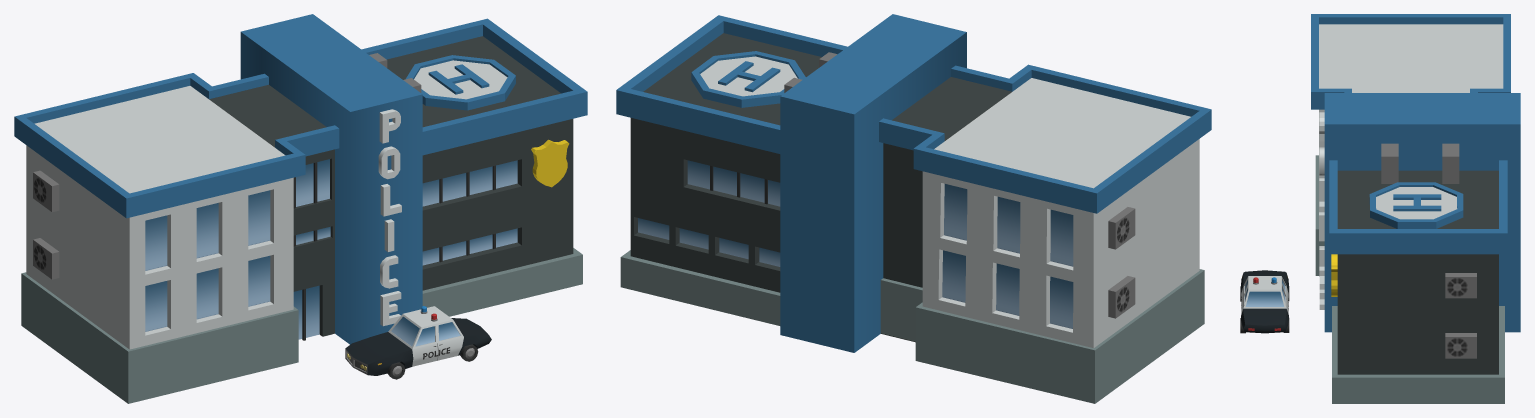
The picture shows the model from 3 angles, left to right: view 1: azimuth 30°, elevation 25°; view 2: azimuth 150°, elevation 25°; view 3: azimuth 270°, elevation 25°; orthographic projection. The views are drawn at different scales.
Visible parts, largest first — view 1: City_Police_Station; view 2: City_Police_Station; view 3: City_Police_Station.
Part boxes in pixels (x1,y1,x2,y2): City_Police_Station: (14,14,587,403); City_Police_Station: (616,14,1211,403); City_Police_Station: (1240,14,1520,403).
Bounding box in the file's own units: 21.89 × 10.35 × 12.63.
1 material, 1 textured.
